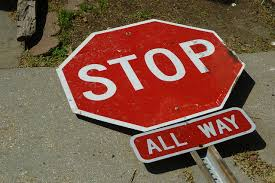SS: (61, 19, 248, 127)
